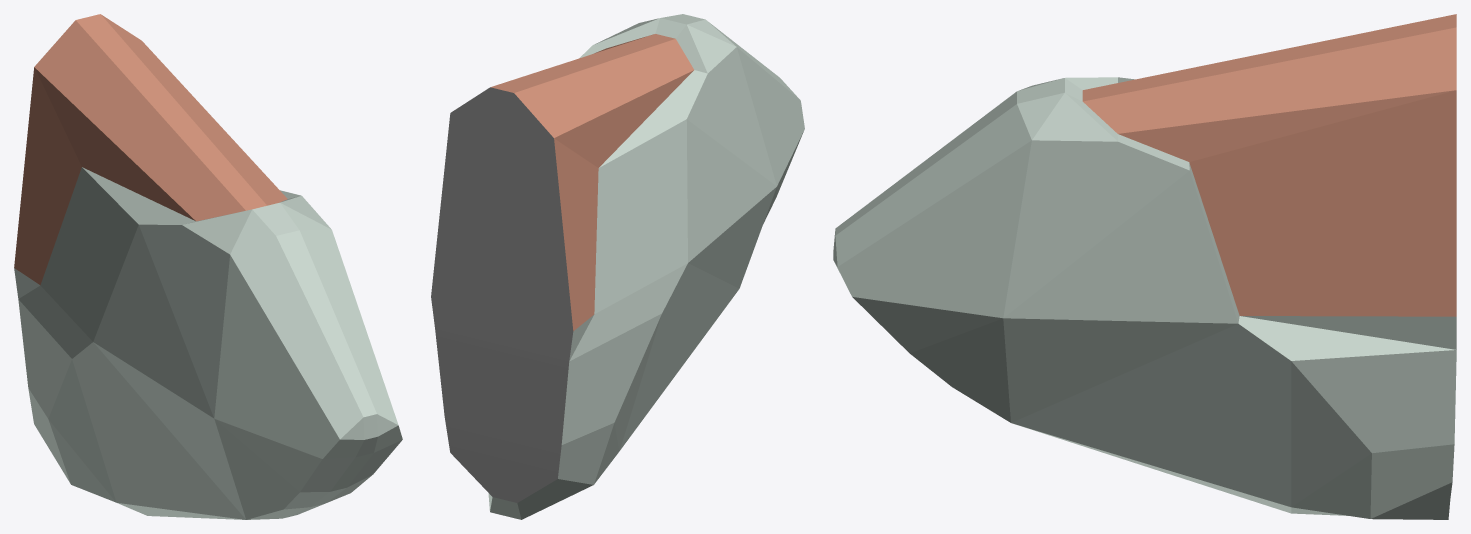
File: topTopPart.fbx
3 renders of one model, left to right at view 1: azimuth 30°, elevation 25°; view 2: azimuth 150°, elevation 25°; view 3: azimuth 270°, elevation 25°, orthographic. The views are drawn at different scales.
Visible parts, largest first — view 1: topTopPart; view 2: topTopPart; view 3: topTopPart.
Boxes of the visible parts, left/top/right/bottom form: topTopPart: left=14, top=14, right=402, bottom=519; topTopPart: left=431, top=14, right=804, bottom=519; topTopPart: left=833, top=14, right=1456, bottom=519.
Size of the model in its own units: 32.52 by 73.61 by 84.81.
